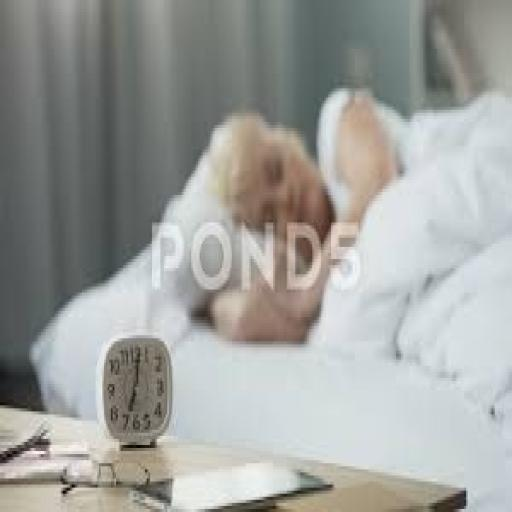sleeping: (27, 106, 338, 420), (309, 79, 510, 387)
